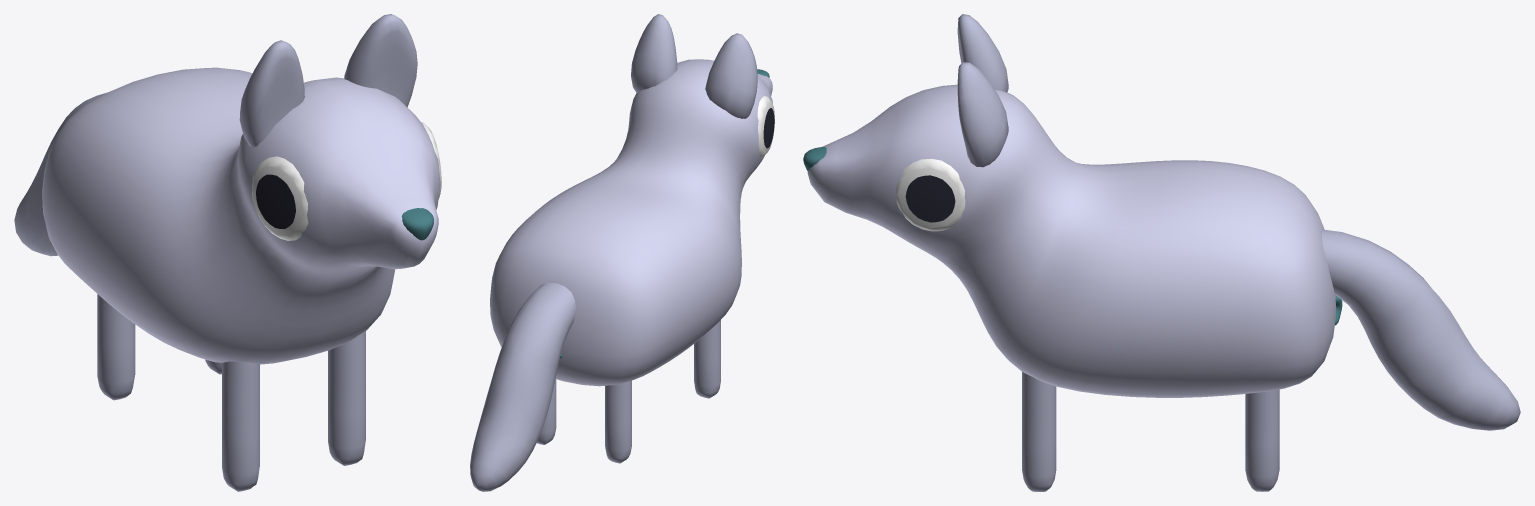
Rendered from arcticfox.glb.
3 views of the same model, side by side, from view 1: azimuth 30°, elevation 25°; view 2: azimuth 150°, elevation 25°; view 3: azimuth 270°, elevation 25° (orthographic). The views are drawn at different scales.
Parts seen in each view (by area): view 1: ArcticFox_LOD0; view 2: ArcticFox_LOD0; view 3: ArcticFox_LOD0.
Boxes of the visible parts, x1,y1,x2,y2 form: ArcticFox_LOD0: (14, 14, 441, 491); ArcticFox_LOD0: (470, 14, 774, 491); ArcticFox_LOD0: (803, 14, 1520, 491).
Bounding box in the file's own units: 107 × 193 × 293.
1 material, 1 textured.
